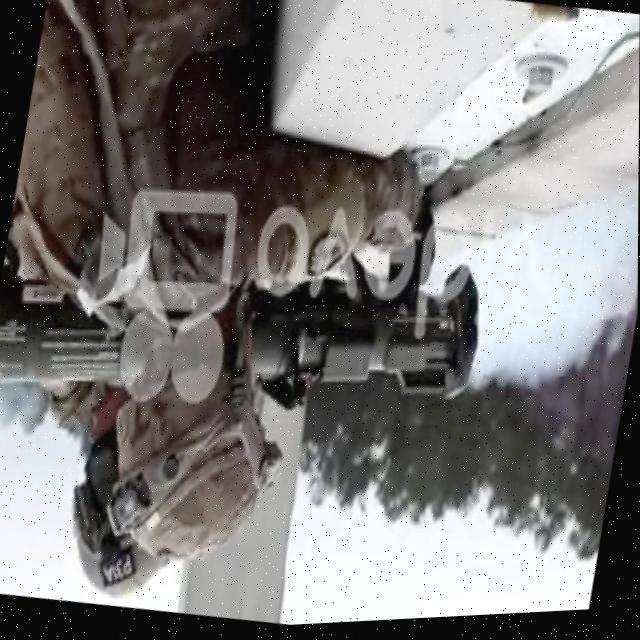rocket: (0, 187, 490, 452)
